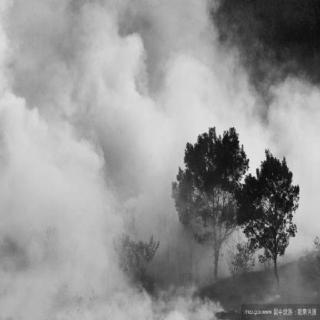Smoke: (1, 5, 228, 318), (273, 71, 320, 261)
